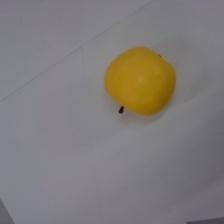yellow: (103, 45, 175, 116)
